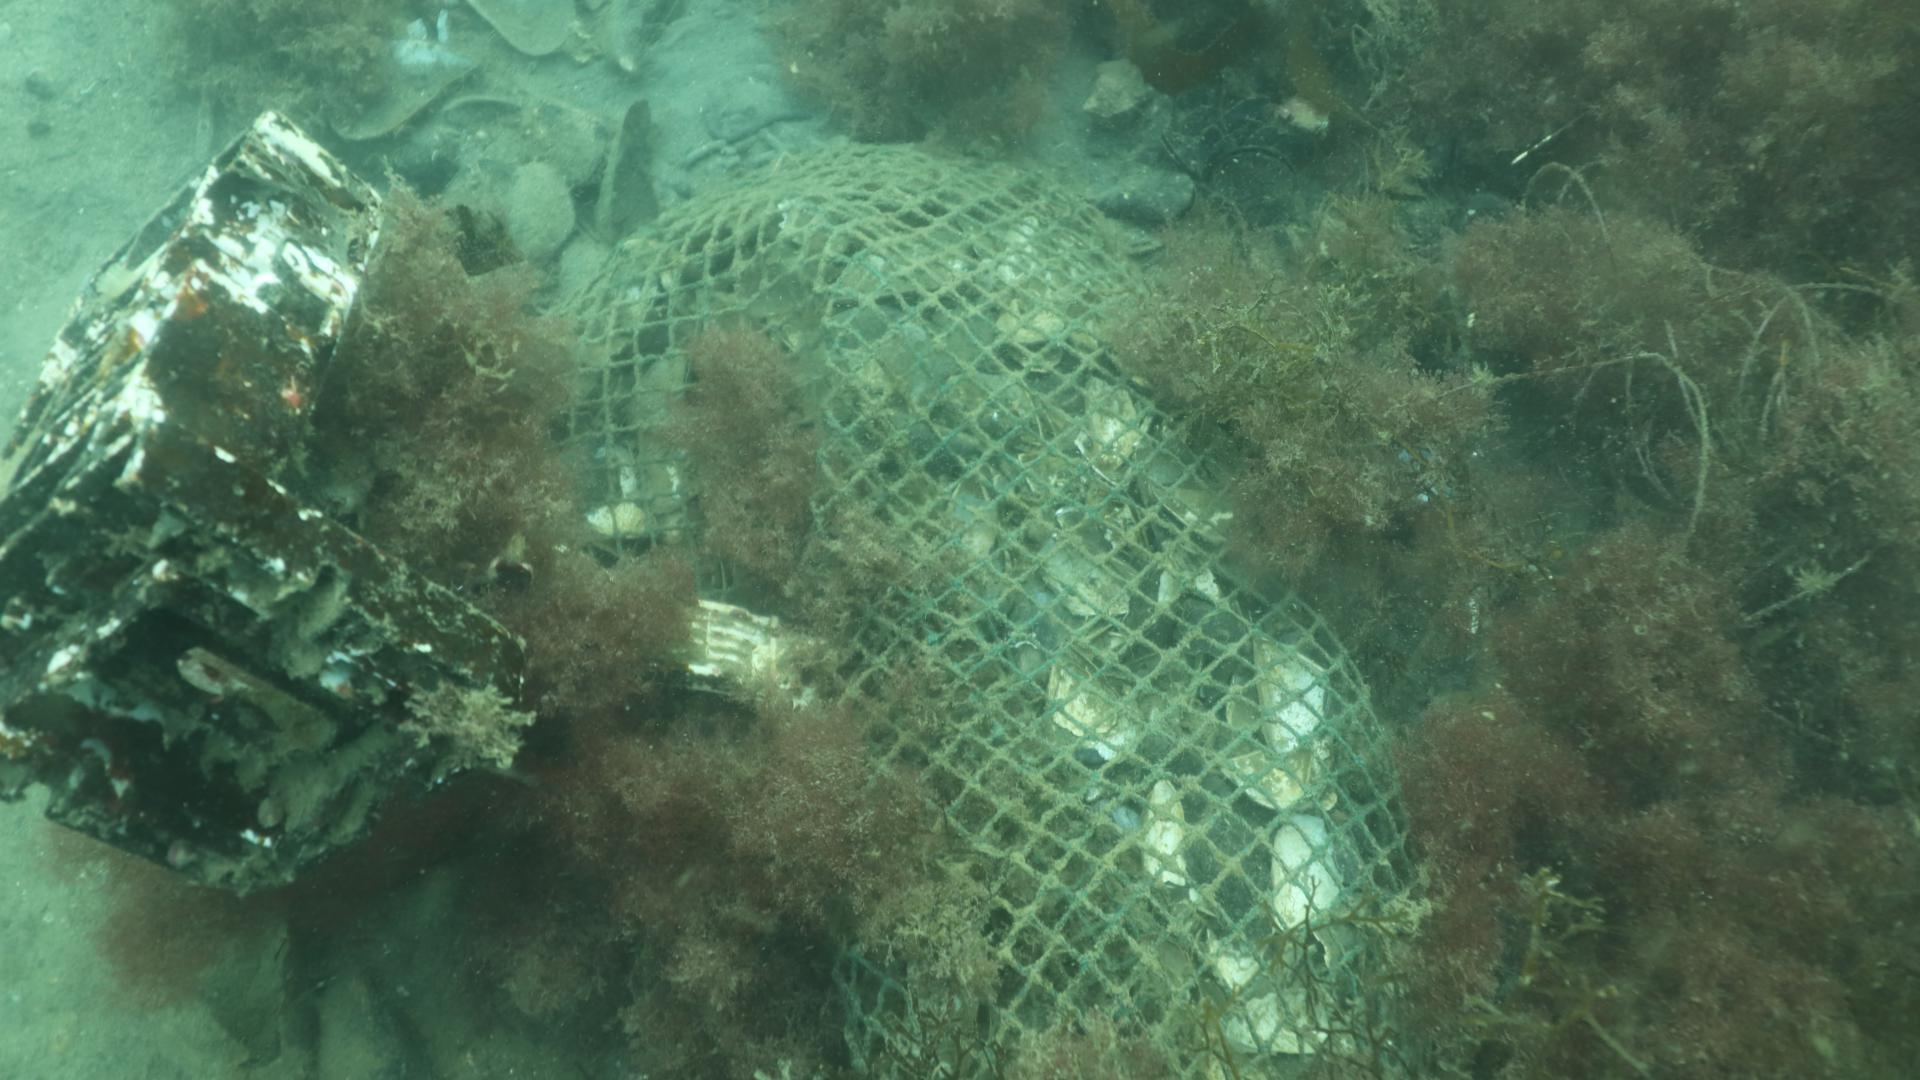fish net: (541, 140, 1424, 1080)
